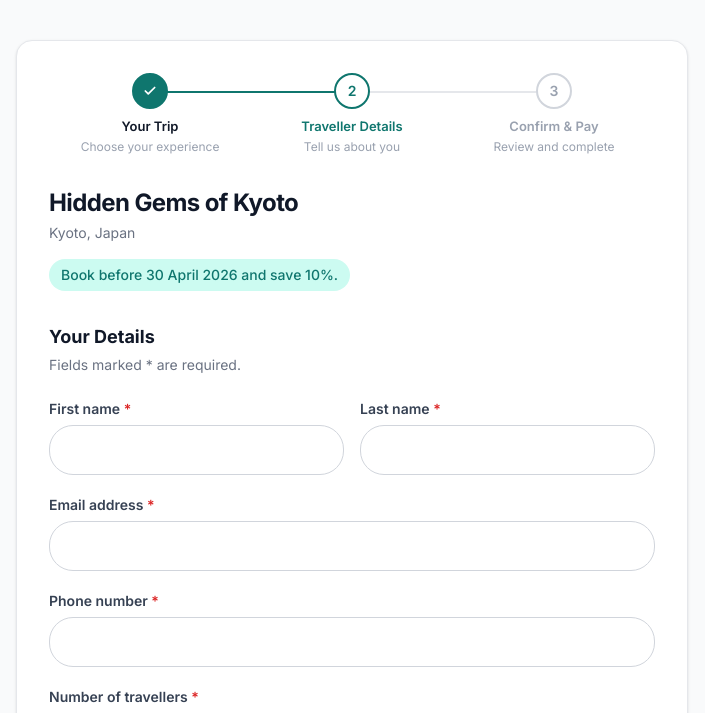
Test: BookingPage › Full booking flow integration › shows the Confirm & Pay step after form submission
Type "Jane" into the field labelled "First name *". click: (196, 450)
box: [49,424,344,474]
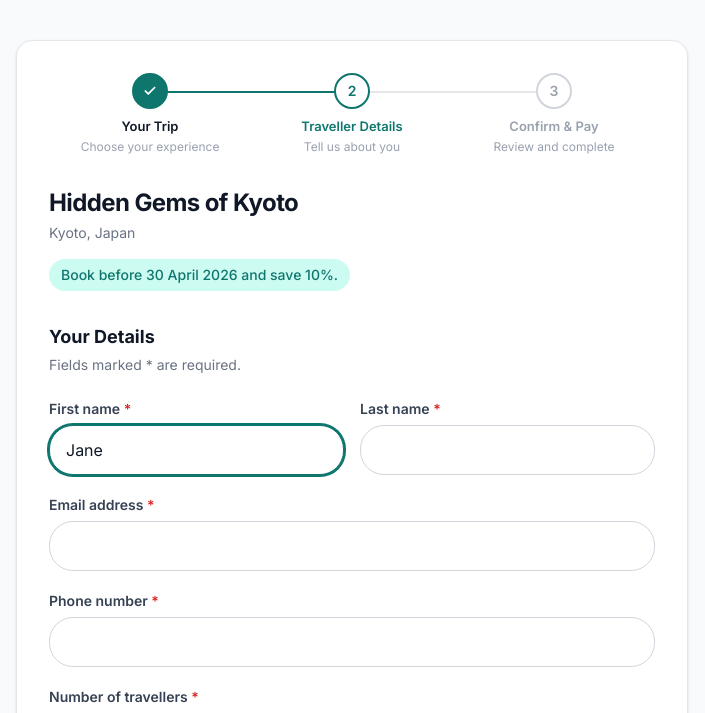
Type "Smith" into the field labelled "Last name *". click: (508, 450)
box: [360,424,655,474]
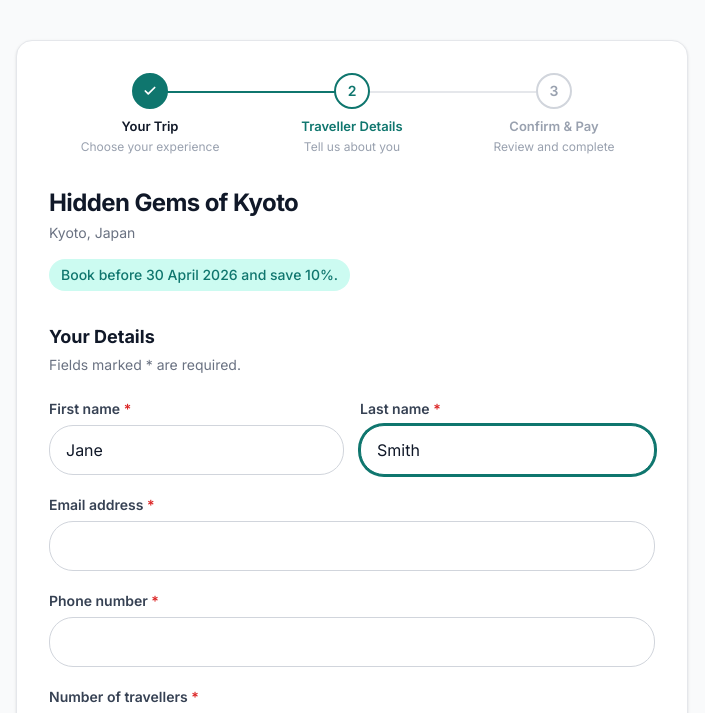
Type "jane@example.com" into the field labelled "Email address *". click: (352, 546)
box: [49,520,655,570]
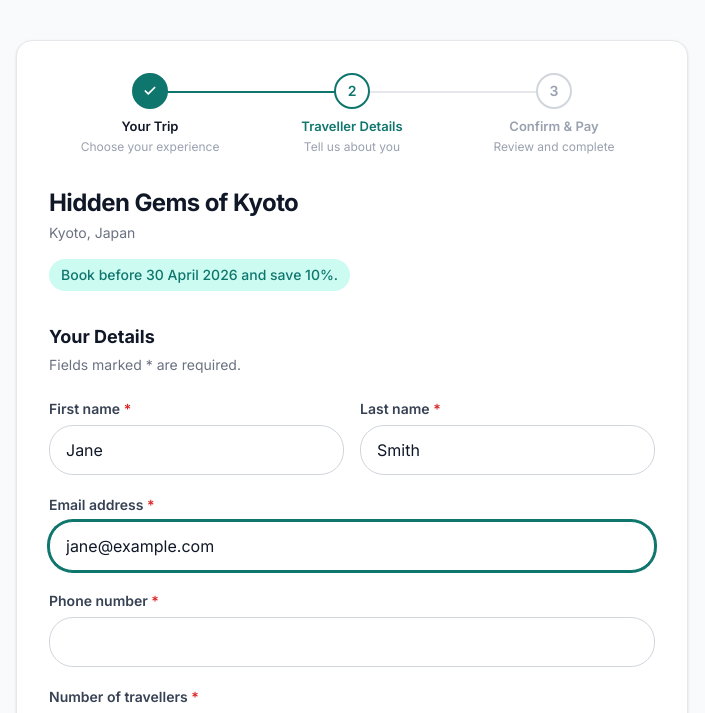
Type "+44 7700 900000" into the field labelled "Phone number *". click: (352, 642)
box: [49,616,655,666]
(page scrolled)
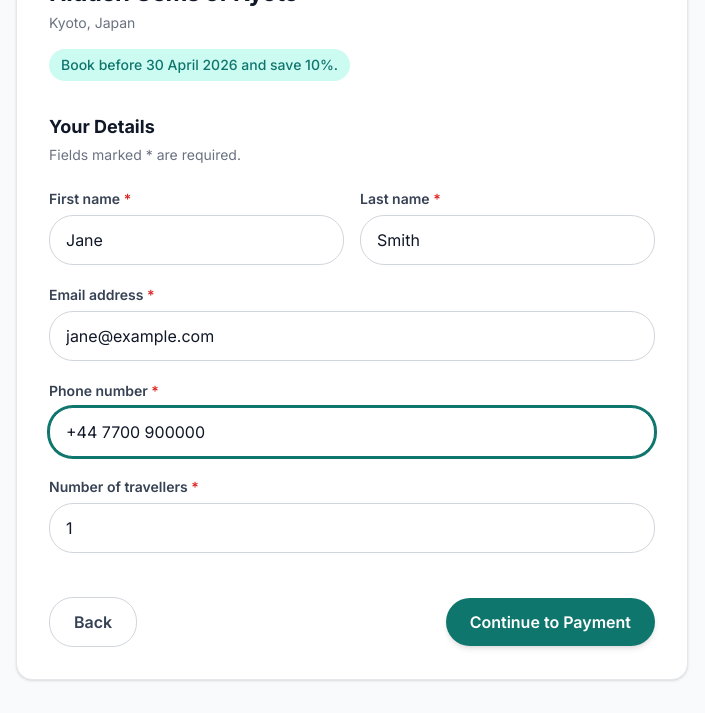
Click the button "Continue to Payment". click: (550, 622)
box: [446,598,655,646]
(page scrolled)
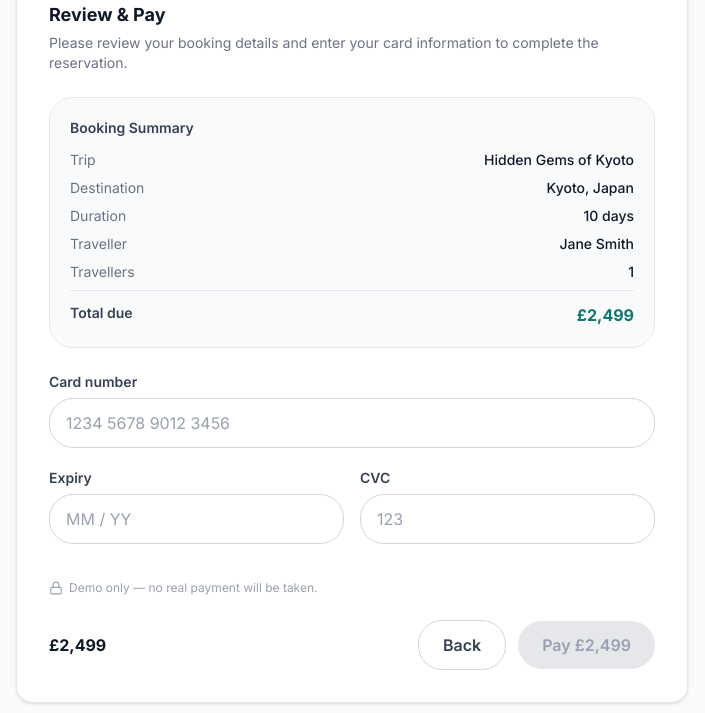
Check: the heading "Review & Pay" is shown, box [49,4,166,24]
